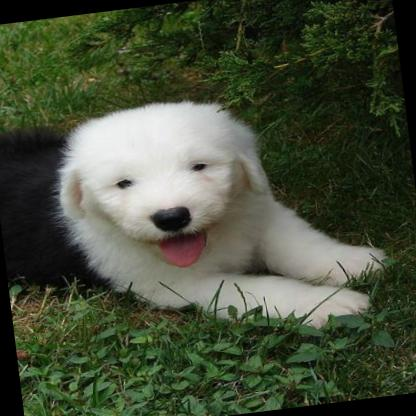Old_English_sheepdog: (0, 75, 392, 361)
